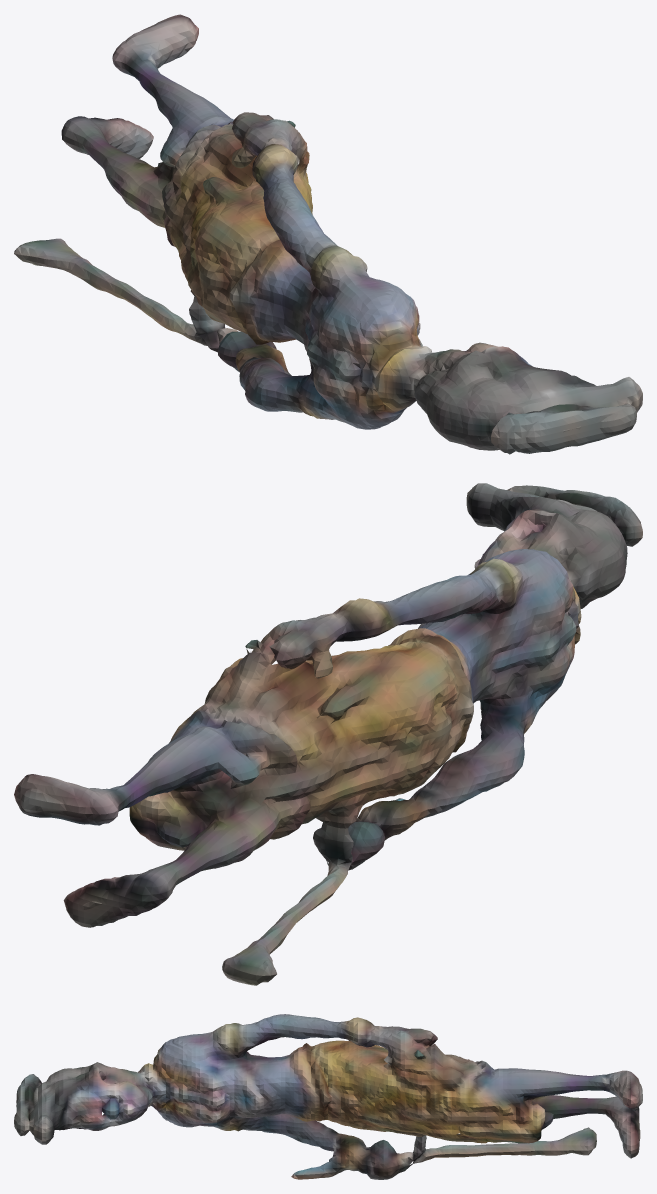
File: vamana.glb
The picture shows the model from 3 angles, top to bottom: view 1: azimuth 30°, elevation 25°; view 2: azimuth 150°, elevation 25°; view 3: azimuth 270°, elevation 25°; orthographic projection. The views are drawn at different scales.
Parts seen in each view (by area): view 1: world; view 2: world; view 3: world.
Part boxes in pixels (x1=…): world: x1=14, y1=14, x2=642, y2=454; world: x1=14, y1=483, x2=642, y2=985; world: x1=14, y1=1014, x2=642, y2=1179.
Size of the model in its own units: 0.2768 by 0.2795 by 1.01.
